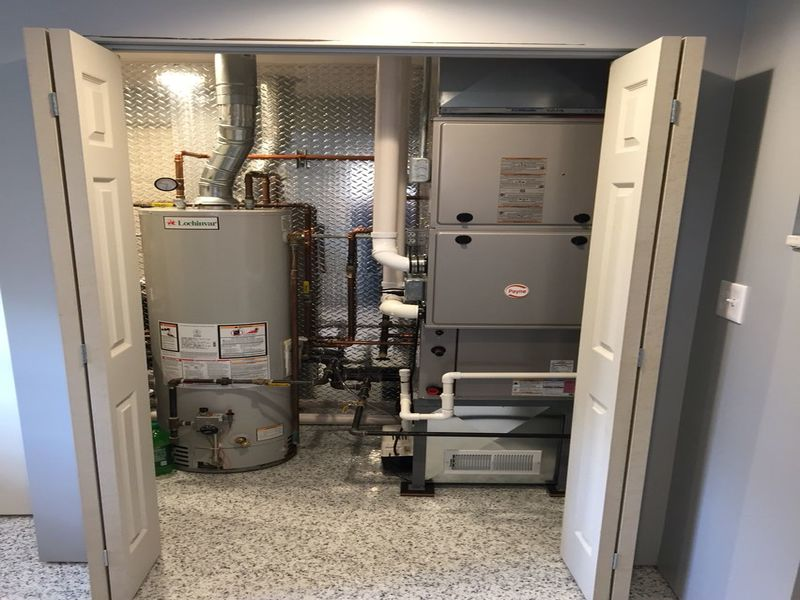valve: (144, 198, 184, 212), (255, 377, 301, 386), (300, 280, 314, 302)
